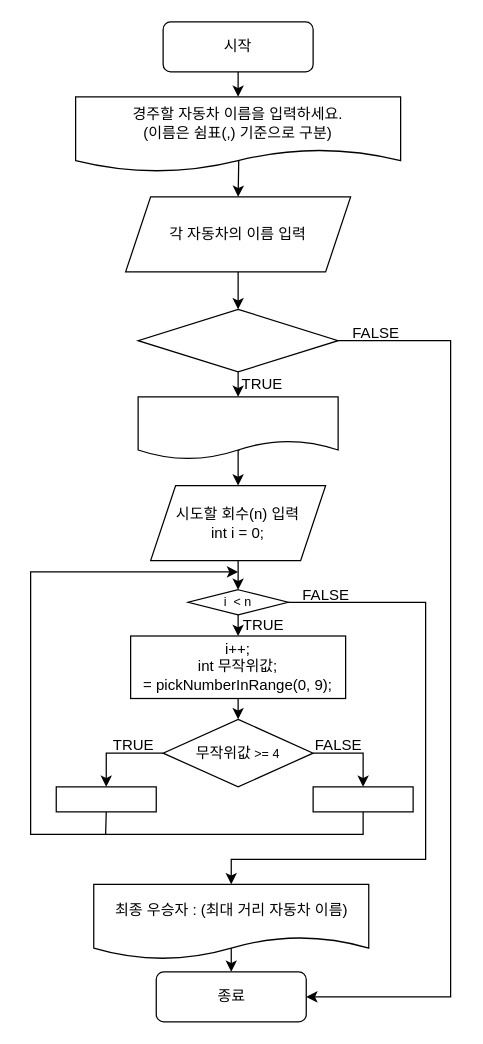
The diagram is 483 pixels wide and 1044 high, and some of its shapes have lost their labels. Each missing label, with the box of its shape:
거리 = 거리: (312, 786, 413, 812)
거리++: (55, 786, 156, 812)
시도할 회수는 몇회인가요?: (137, 396, 338, 459)
입력 문자 검증: (137, 308, 338, 372)
